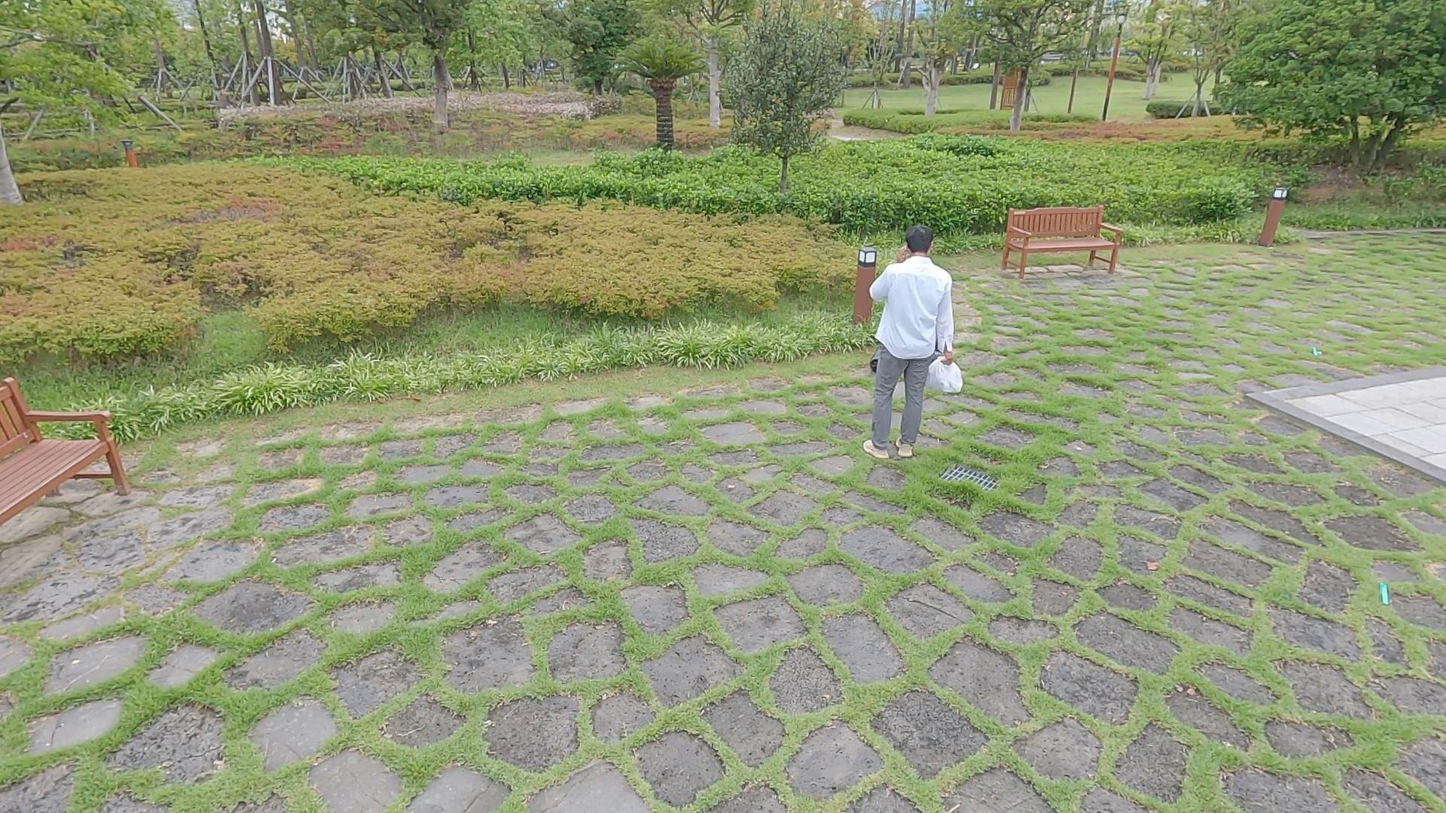person: (864, 220, 962, 463)
trash: (926, 356, 967, 397)
